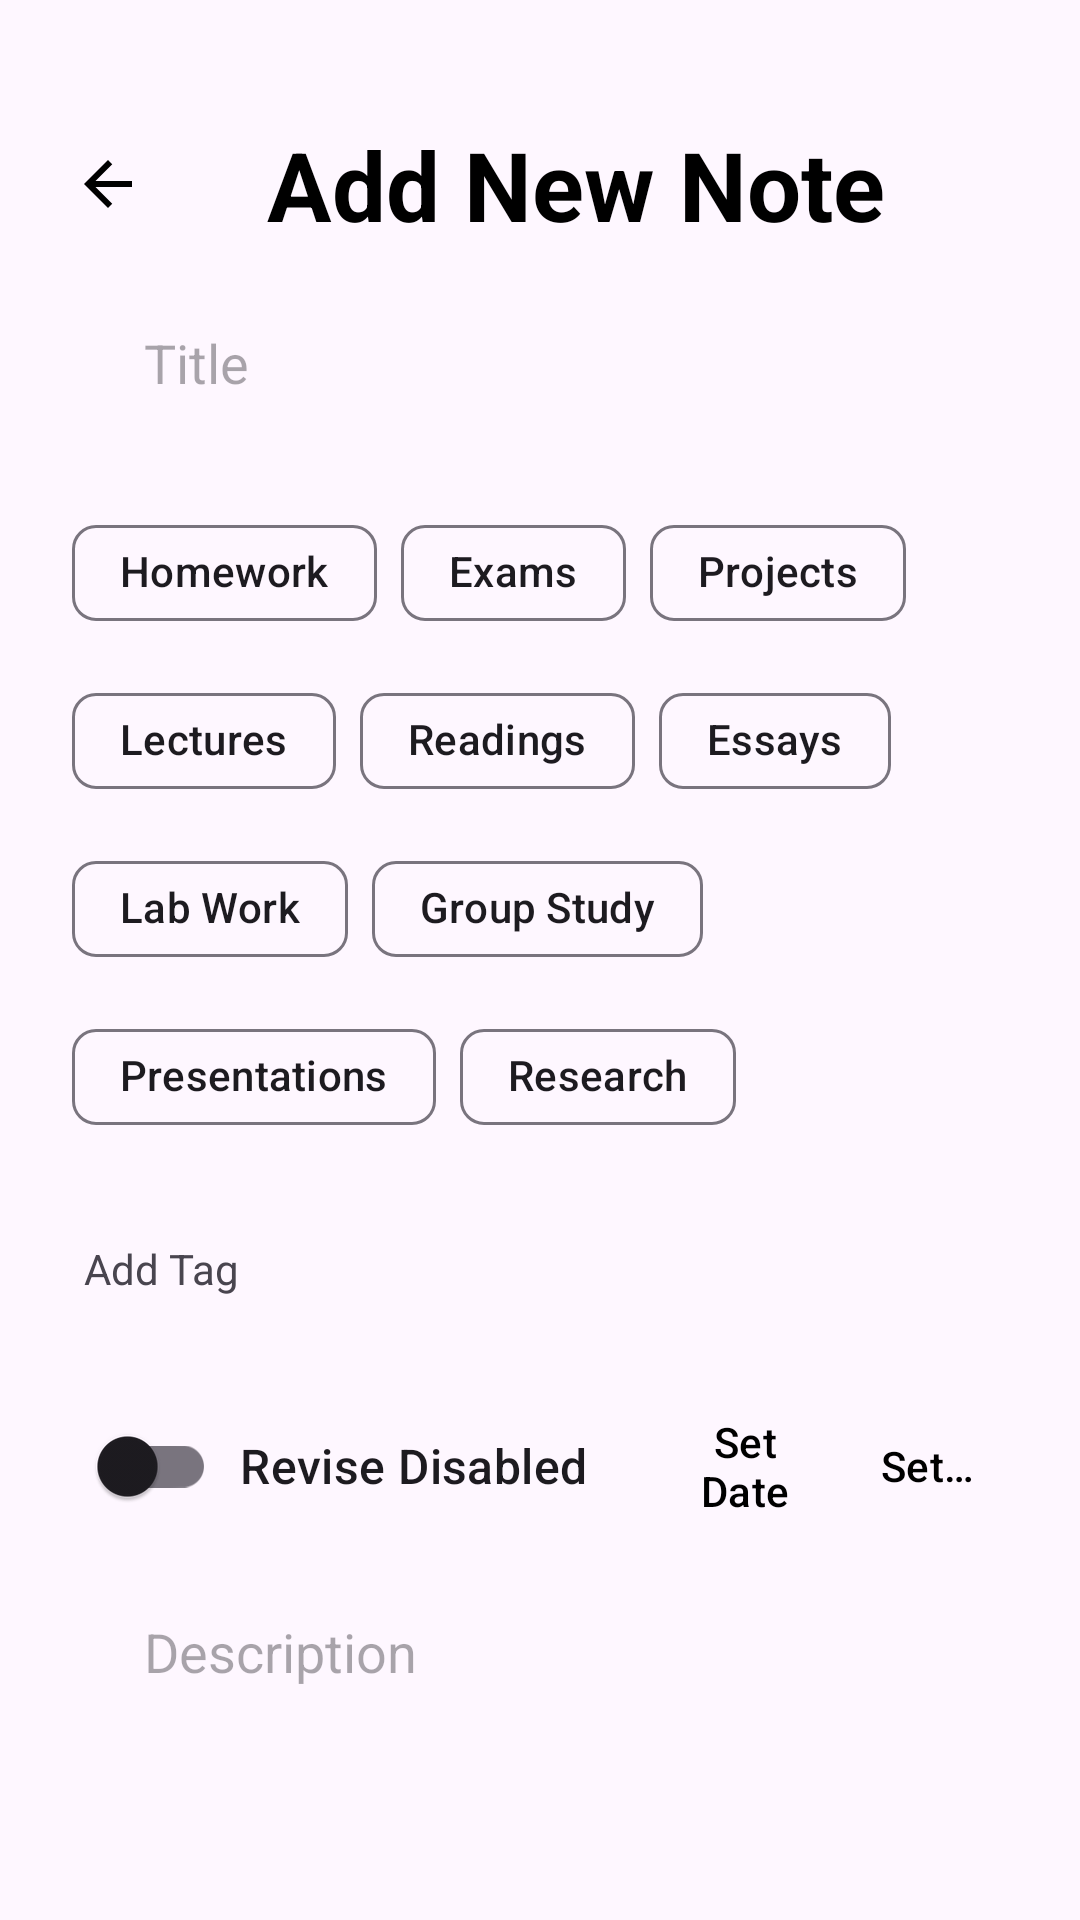

Icon click points for this 1080x1920 phone screenshot, format [x,y]:
Back Button: [108,184]
